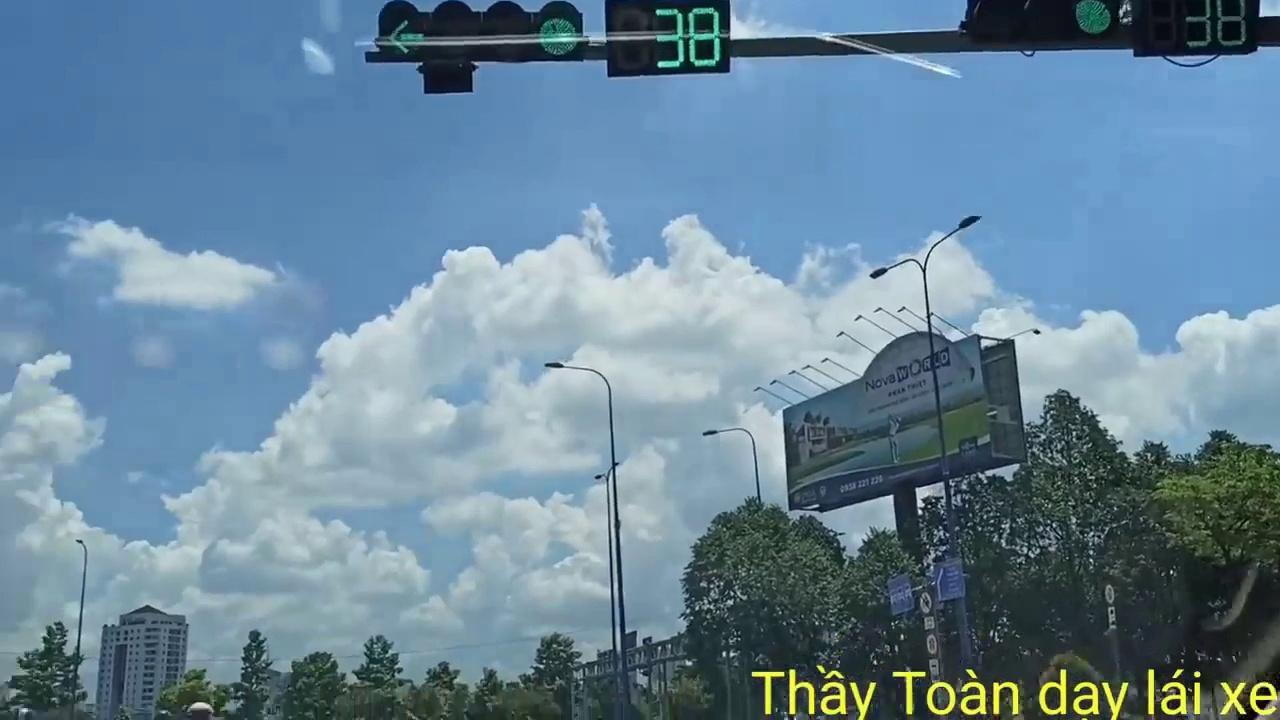Chỉ hướng đường: (932, 559, 968, 602)
Cấm xe máy: (916, 590, 934, 614)
Làn đường cho từng xe: (885, 574, 915, 615)
